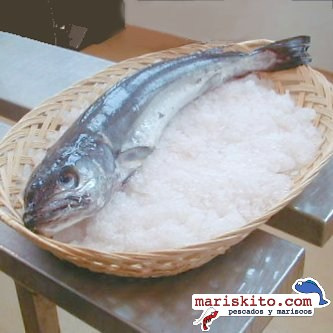fish: (17, 32, 314, 233)
